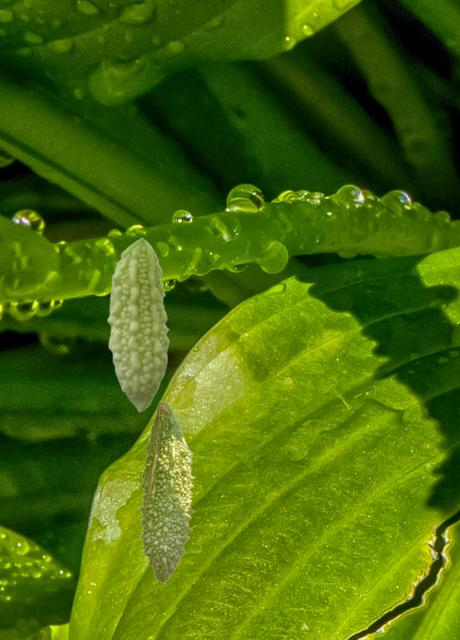ampalaya: (106, 237, 170, 412), (136, 400, 196, 584)
